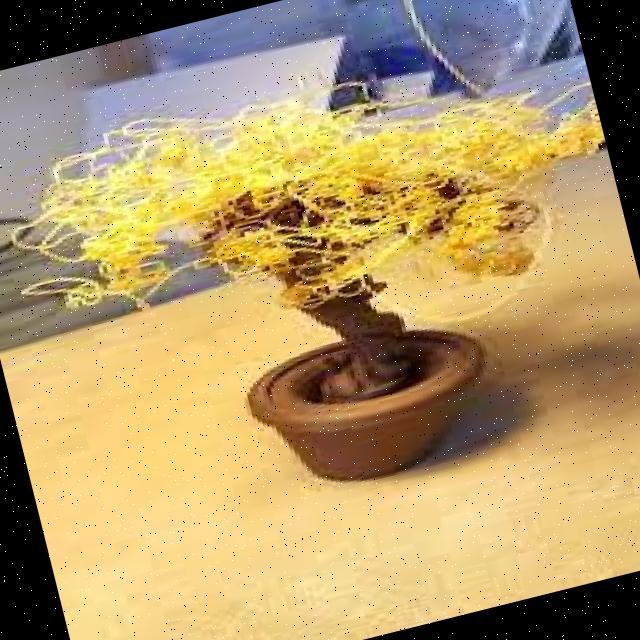spaghetti: (1, 4, 576, 363)
